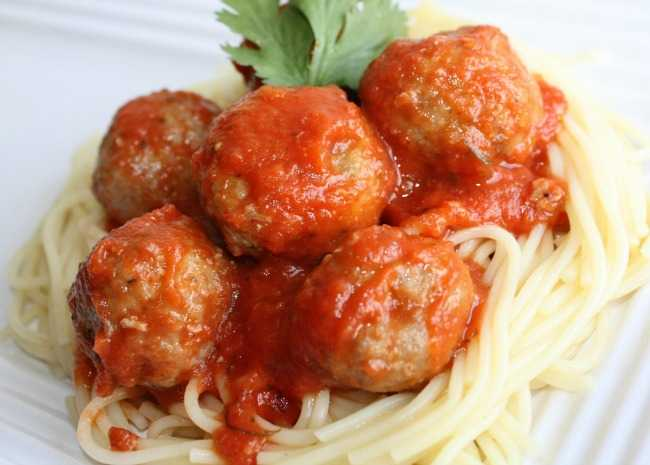meatballs: (201, 91, 385, 244), (314, 227, 474, 385), (83, 215, 236, 375), (372, 32, 529, 162), (114, 109, 209, 216)
plain spaghetti: (91, 391, 538, 465), (473, 235, 613, 465), (563, 108, 650, 380)
